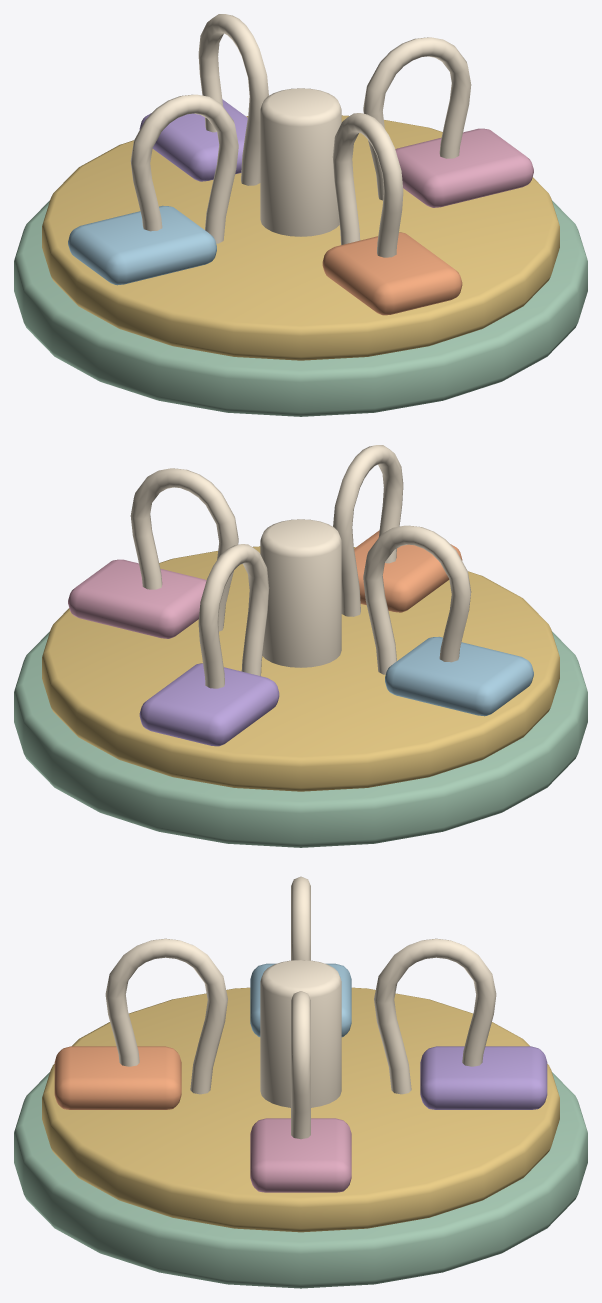
The model's file is merry-go-round.glb.
The picture shows the model from 3 angles, top to bottom: view 1: azimuth 30°, elevation 25°; view 2: azimuth 150°, elevation 25°; view 3: azimuth 270°, elevation 25°; orthographic projection.
Parts seen in each view (by area): view 1: RotatingDeckSurface, Fixed rounded plinth; view 2: RotatingDeckSurface, Fixed rounded plinth; view 3: RotatingDeckSurface, Fixed rounded plinth.
Boxes of the visible parts, x1=… form: RotatingDeckSurface: x1=42, y1=14, x2=559, y2=360; Fixed rounded plinth: x1=14, y1=200, x2=587, y2=416; RotatingDeckSurface: x1=42, y1=445, x2=559, y2=791; Fixed rounded plinth: x1=14, y1=631, x2=587, y2=847; RotatingDeckSurface: x1=42, y1=876, x2=559, y2=1232; Fixed rounded plinth: x1=14, y1=1072, x2=587, y2=1288.
Bounding box in the file's own units: 2.26 × 1.01 × 2.26.
